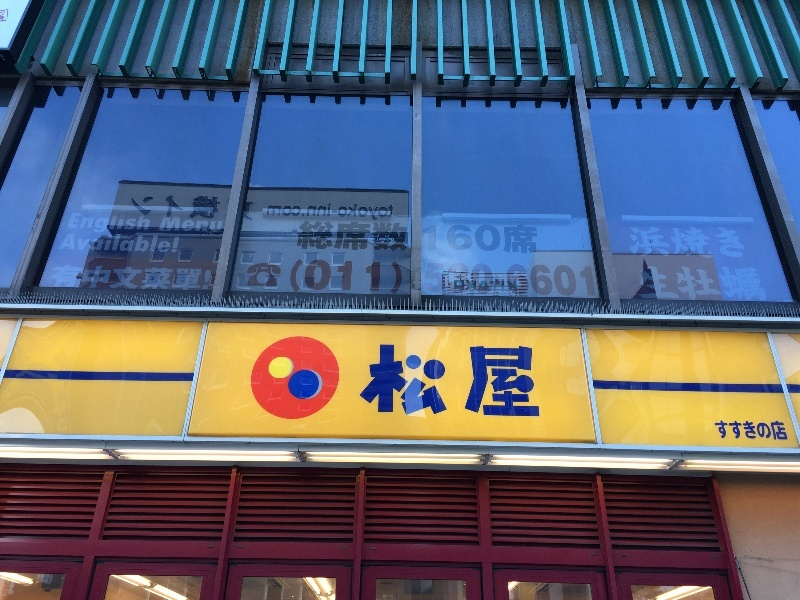text: (369, 345, 384, 417), (385, 345, 400, 417), (401, 345, 416, 417), (417, 345, 432, 417), (433, 345, 448, 417), (449, 345, 464, 417), (465, 345, 480, 417), (481, 345, 496, 417), (497, 345, 512, 417), (513, 345, 528, 417), (529, 345, 540, 417), (305, 260, 320, 295), (321, 260, 336, 295), (337, 260, 352, 295), (353, 260, 368, 295), (369, 260, 384, 295), (385, 260, 400, 295), (641, 267, 656, 302), (657, 267, 672, 302), (673, 267, 688, 302), (689, 267, 704, 302), (705, 267, 720, 302), (721, 267, 736, 302), (737, 267, 752, 302), (753, 267, 768, 302), (433, 264, 448, 297), (449, 264, 464, 297), (465, 264, 480, 297), (481, 264, 496, 297), (497, 264, 512, 297), (513, 264, 528, 297), (529, 264, 544, 297), (545, 264, 560, 297), (561, 264, 576, 297), (577, 264, 592, 297), (641, 227, 656, 258), (657, 227, 672, 258), (673, 227, 688, 258), (689, 227, 704, 258), (705, 227, 720, 258), (721, 227, 736, 258), (305, 221, 320, 251), (321, 221, 336, 251), (337, 221, 352, 251), (353, 221, 368, 251), (369, 221, 384, 251), (385, 221, 400, 251), (433, 225, 448, 255), (449, 225, 464, 255), (465, 225, 480, 255), (481, 225, 496, 255), (497, 225, 512, 255), (513, 225, 528, 255), (627, 227, 640, 258), (65, 265, 80, 291), (81, 265, 96, 291), (97, 265, 112, 291), (113, 265, 128, 291), (129, 265, 144, 291), (145, 265, 160, 291), (161, 265, 176, 291), (177, 265, 192, 291), (193, 265, 208, 291), (145, 194, 160, 220), (161, 194, 176, 220), (177, 194, 192, 220), (193, 194, 208, 220), (293, 260, 304, 295), (81, 213, 96, 235), (97, 213, 112, 235), (113, 213, 128, 235), (129, 213, 144, 235), (209, 194, 221, 220), (737, 227, 747, 258), (364, 345, 368, 417), (133, 194, 144, 220), (721, 421, 736, 440), (737, 421, 752, 440), (753, 421, 768, 440), (769, 421, 784, 440), (81, 235, 96, 253), (97, 235, 112, 253), (113, 235, 128, 253), (129, 235, 144, 253), (145, 235, 160, 253), (161, 235, 176, 253), (423, 225, 432, 255), (529, 225, 538, 255), (177, 216, 192, 233), (193, 216, 208, 233), (209, 216, 224, 233), (273, 203, 288, 220), (289, 203, 304, 220), (305, 203, 320, 220), (321, 203, 336, 220), (337, 203, 352, 220), (353, 203, 368, 220), (369, 203, 384, 220), (69, 235, 80, 253), (165, 216, 176, 233), (57, 265, 64, 291), (401, 221, 407, 251), (72, 213, 80, 235), (427, 264, 432, 297), (145, 213, 152, 235), (299, 221, 304, 251), (385, 203, 393, 220), (593, 264, 596, 297), (715, 421, 720, 440), (209, 265, 212, 291), (401, 260, 403, 295), (785, 421, 788, 440), (177, 235, 180, 253), (269, 203, 272, 220)
